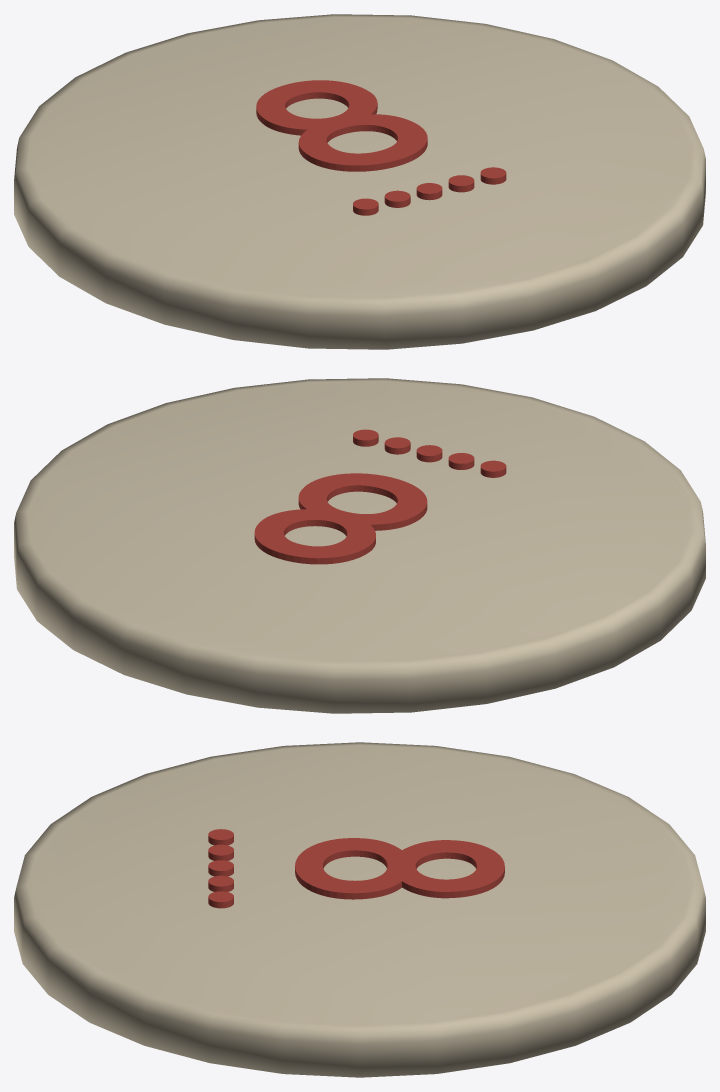
The model's file is token.glb.
The picture shows the model from 3 angles, top to bottom: view 1: azimuth 30°, elevation 25°; view 2: azimuth 150°, elevation 25°; view 3: azimuth 270°, elevation 25°; orthographic projection.
Parts seen in each view (by area): view 1: token_disc, token_num, token_dots; view 2: token_disc, token_num, token_dots; view 3: token_disc, token_num, token_dots.
Part boxes in pixels (box(x1,y1,x2,y2)): token_disc: box(14, 14, 705, 349); token_num: box(256, 80, 427, 171); token_dots: box(353, 167, 506, 215); token_disc: box(14, 378, 705, 713); token_num: box(254, 473, 427, 564); token_dots: box(353, 429, 506, 477); token_disc: box(14, 742, 705, 1077); token_num: box(295, 838, 504, 899); token_dots: box(208, 829, 233, 908).
Size of the model in its own units: 0.3 by 0.0315 by 0.3.
